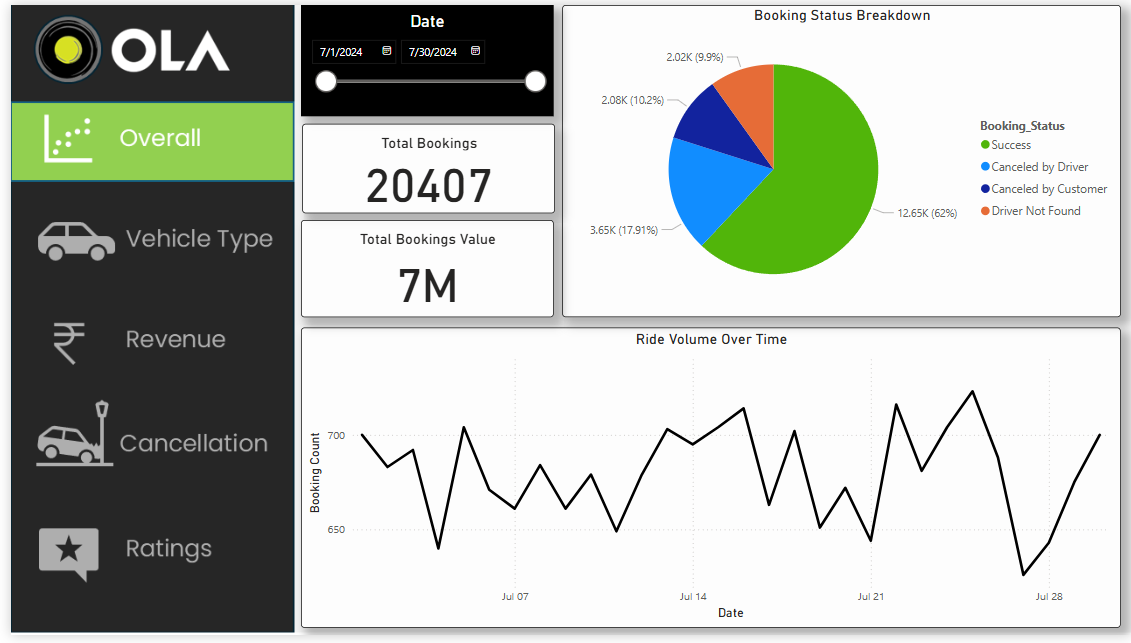

The page's visual inventory and layout, read from the dashboard file:
{"tool":"powerbi","page":{"name":"Overall","canvas":[1280,720],"ordinal":0},"visuals":[{"type":"actionButton","box":[0,220.9,321.5,89.6],"z":0},{"type":"actionButton","box":[0,338.7,321.5,89.6],"z":1000},{"type":"actionButton","box":[0,442.9,321.5,104.3],"z":2000},{"type":"actionButton","box":[0,581.6,321.5,89.6],"z":3000},{"type":"lineChart","title":"Ride Volume Over Time","fields":{"Y":["CountNonNull(July.Booking_ID)"],"Category":["July.Date"]},"box":[331.4,368.6,937.1,342.9],"z":4000},{"type":"pieChart","title":"Booking Status Breakdown","fields":{"Category":["July.Booking_Status"],"Y":["CountNonNull(July.Booking_Status)"]},"box":[630,0,638.6,357.1],"z":5000},{"type":"slicer","title":"Date","fields":{"Values":["July.Date"]},"box":[331.2,0,288.8,127.5],"z":6000},{"type":"card","title":"Total Bookings","fields":{"Values":["CountNonNull(July.Booking_ID)"]},"box":[332.5,135,288.8,102.5],"z":7000},{"type":"card","title":"Total Bookings Value","fields":{"Values":["Sum(July.Booking_Value)"]},"box":[331.2,246.2,288.8,111.2],"z":8000}]}

Visuals, with their boxes in screenshot pixels (x1, y1, x2, y2), scaled from the page's 1280x720 canvas onto the 1131x643 screenshot:
actionButton: region(0, 197, 284, 277)
actionButton: region(0, 302, 284, 382)
actionButton: region(0, 396, 284, 489)
actionButton: region(0, 519, 284, 599)
"Ride Volume Over Time" lineChart: region(293, 329, 1121, 635)
"Booking Status Breakdown" pieChart: region(557, 0, 1121, 319)
"Date" slicer: region(293, 0, 548, 114)
"Total Bookings" card: region(294, 121, 549, 212)
"Total Bookings Value" card: region(293, 220, 548, 319)
